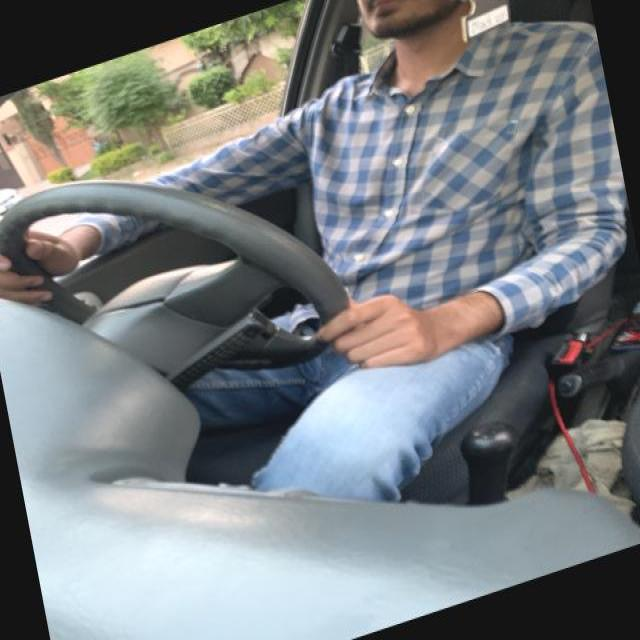no-seatbelt: (300, 56, 610, 234)
